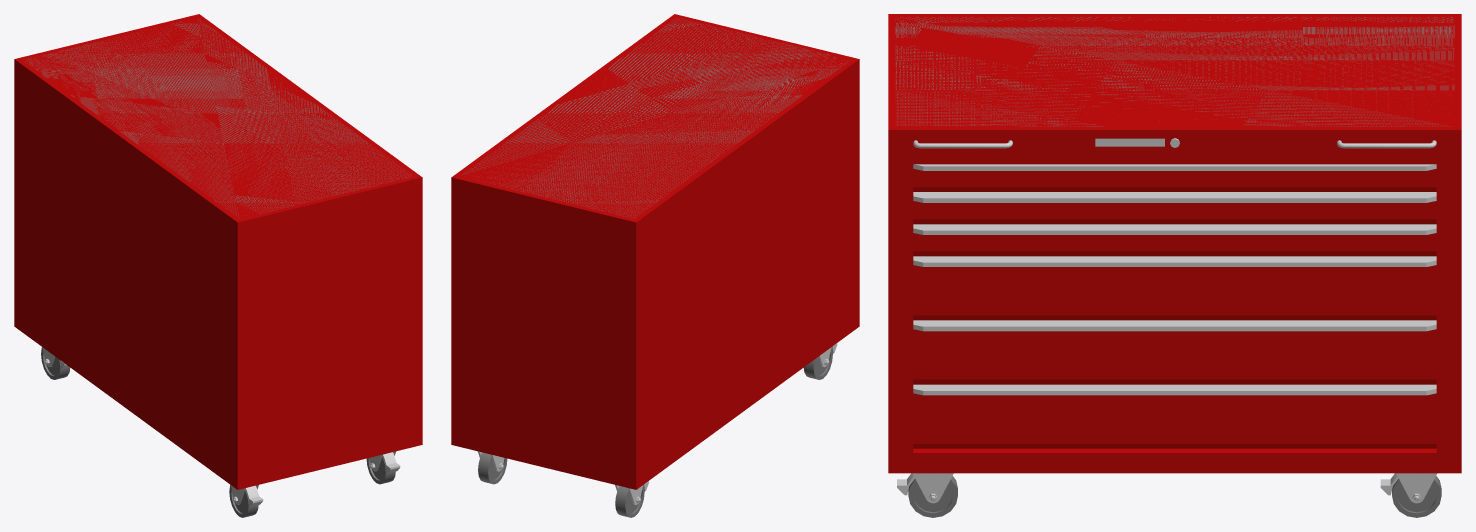
File: toolbox.fbx
3 renders of one model, left to right at view 1: azimuth 30°, elevation 25°; view 2: azimuth 150°, elevation 25°; view 3: azimuth 270°, elevation 25°, orthographic. The views are drawn at different scales.
Parts seen in each view (by area): view 1: group_6.002; view 2: group_6.002; view 3: group_6.002.
Boxes of the visible parts, x1,y1,x2,y2 form: group_6.002: (14, 14, 422, 517); group_6.002: (451, 14, 859, 517); group_6.002: (888, 14, 1461, 517).
Bounding box in the file's own units: 57.05 × 88.5 × 115.
